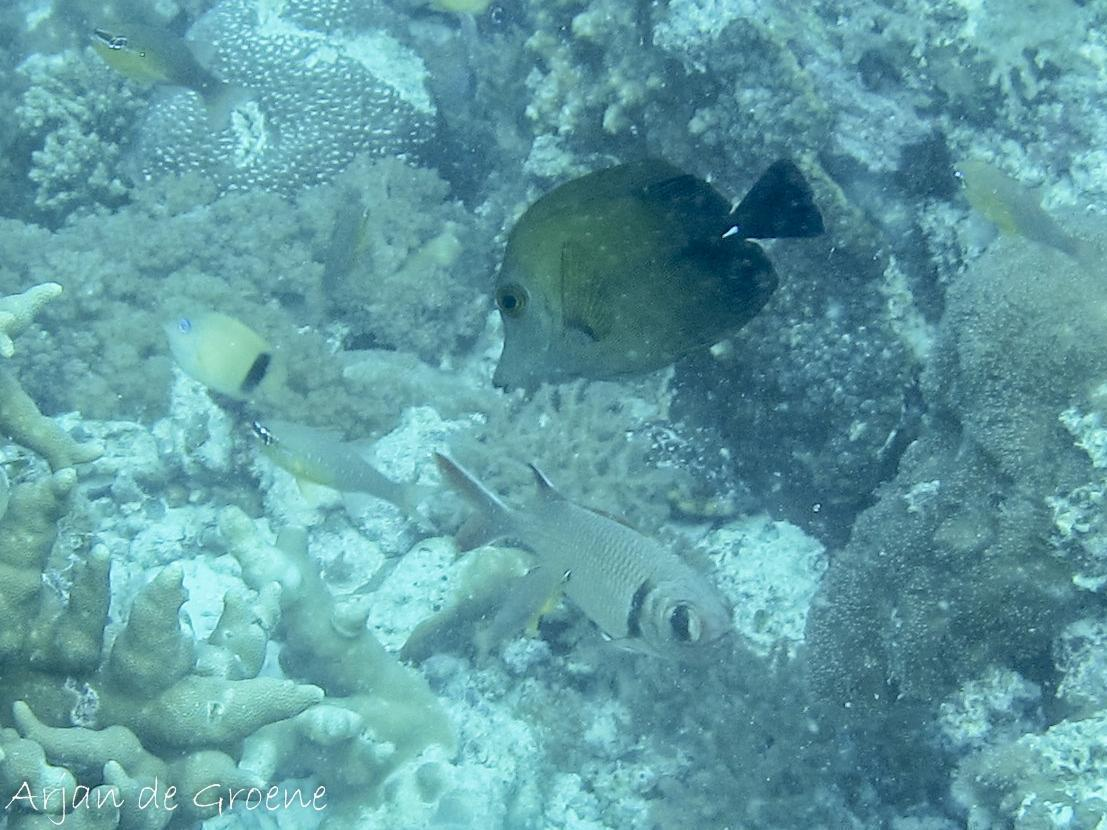Fish: (388, 145, 868, 409)
